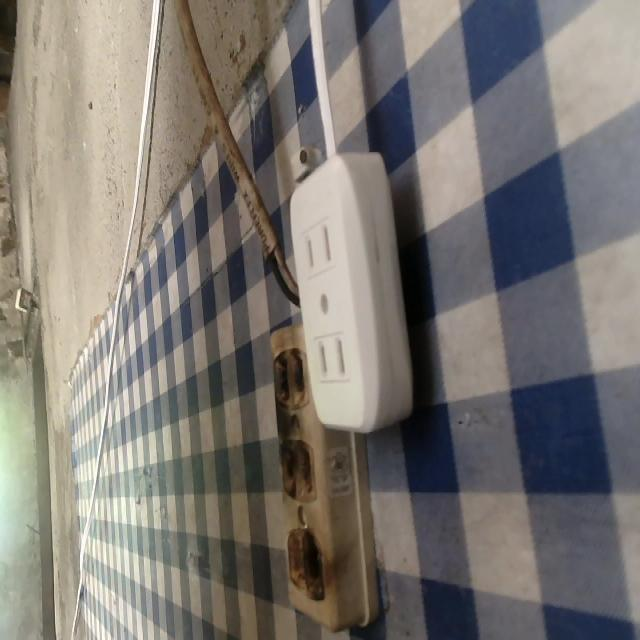-: (286, 525, 332, 603), (276, 436, 327, 505), (270, 342, 308, 414)
